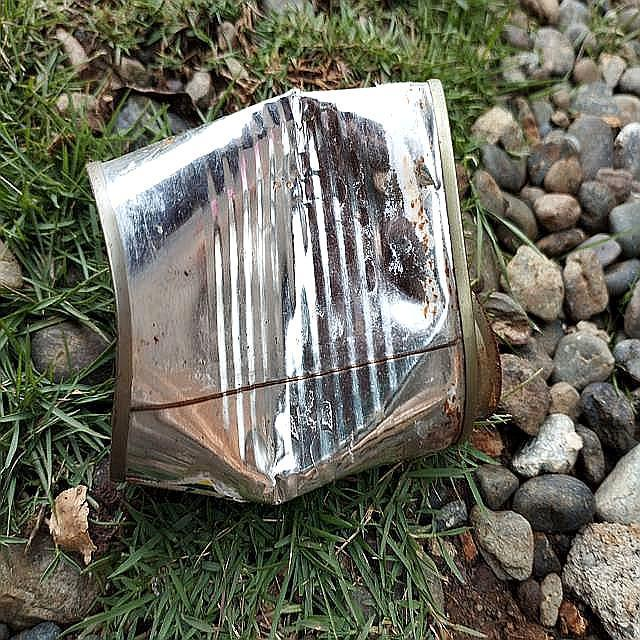Non-biodegradable: (85, 78, 503, 507)
